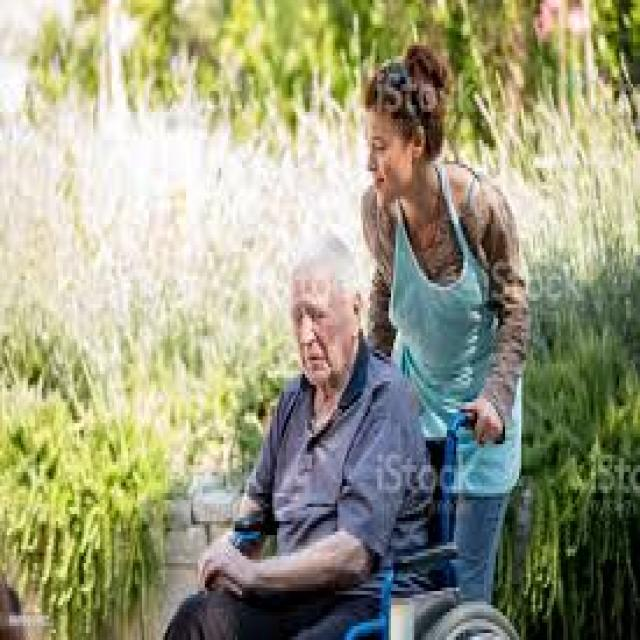wheelchairs: (216, 381, 522, 637)
